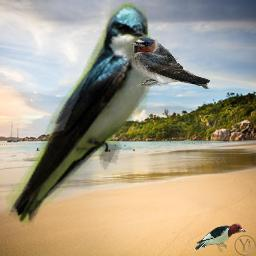Swallow: (6, 3, 156, 231), (129, 36, 211, 90)
Woodpecker: (191, 221, 247, 254)
